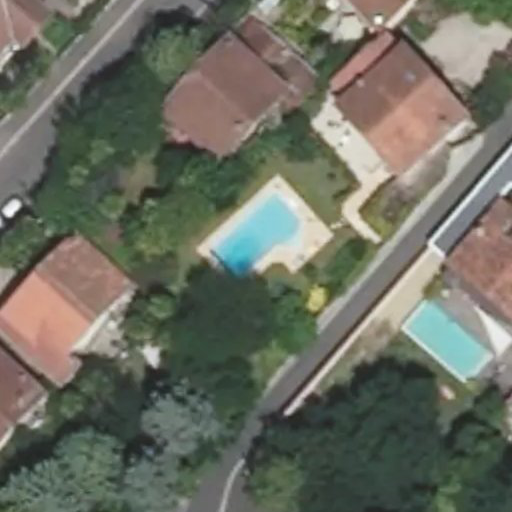pool: (212, 193, 300, 275), (409, 305, 484, 376)
